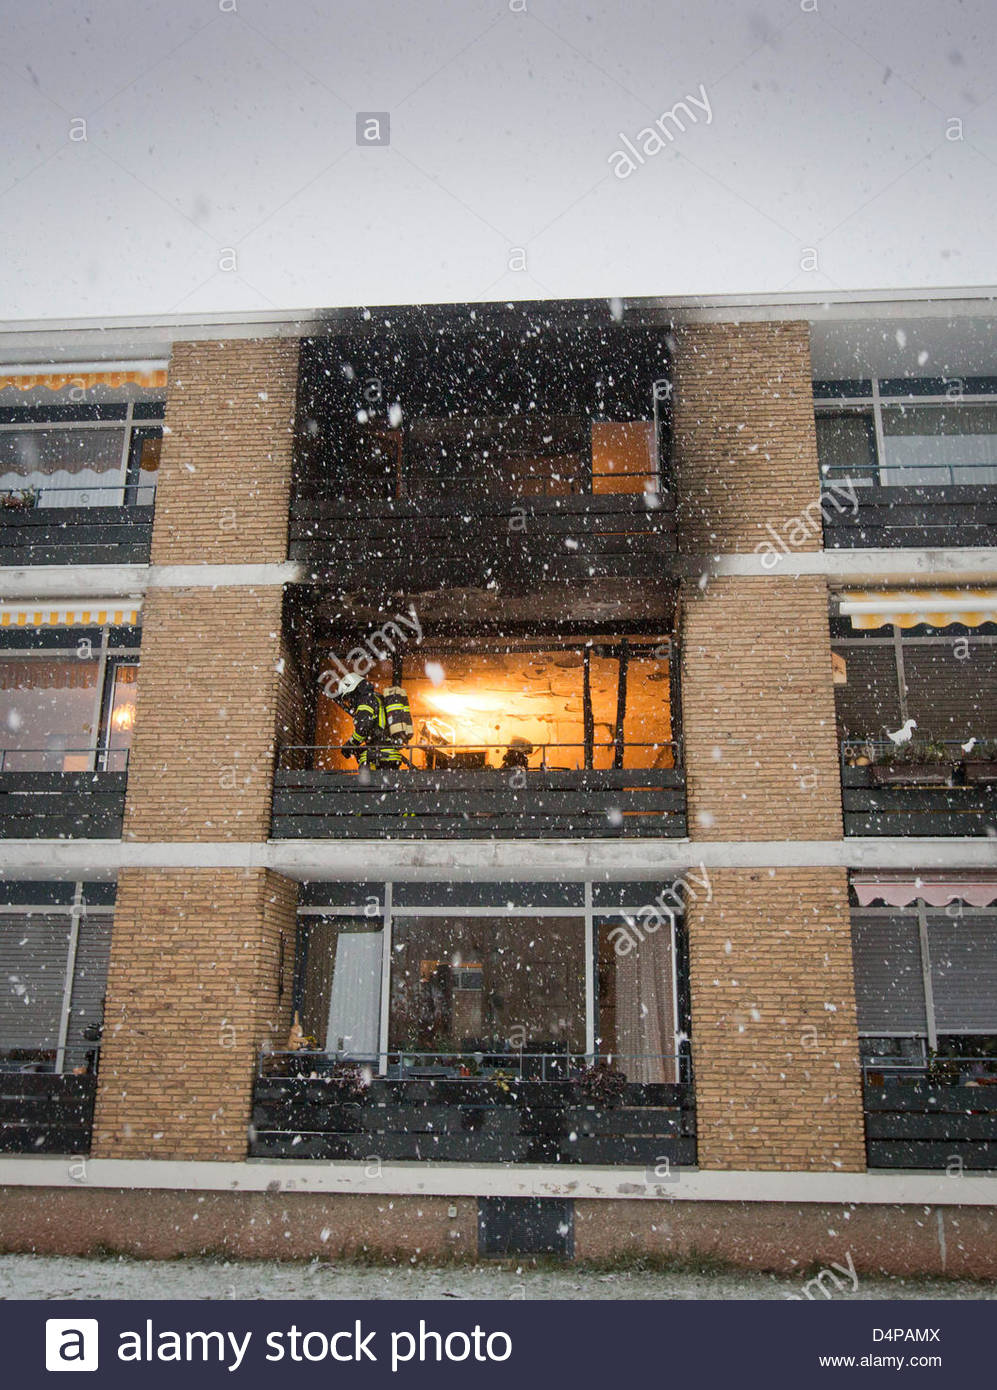Fire: (401, 640, 671, 777)
